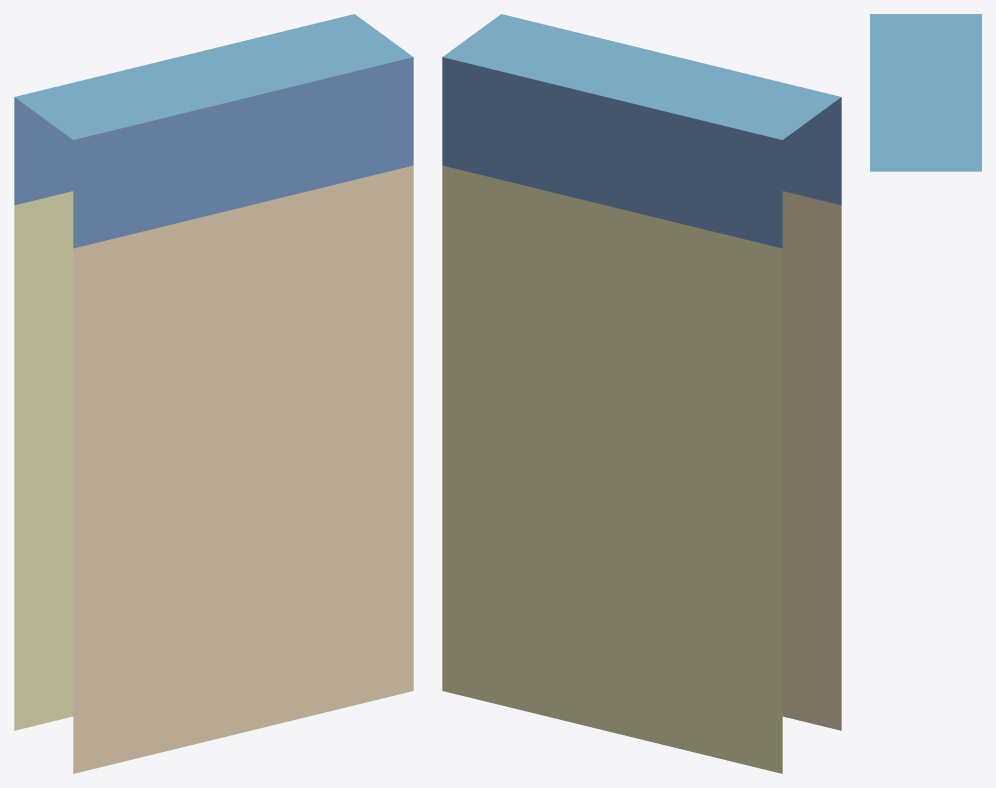
File: wall_inside_S.fbx
3 views of the same model, side by side, from view 1: azimuth 30°, elevation 25°; view 2: azimuth 150°, elevation 25°; view 3: azimuth 270°, elevation 25° (orthographic). The views are drawn at different scales.
Parts seen in each view (by area): view 1: wall_s2; view 2: wall_s2; view 3: wall_s2.
Part boxes in pixels (x1,y1,x2,y2): wall_s2: (14,14,413,773); wall_s2: (442,14,841,773); wall_s2: (870,14,981,171).
Size of the model in its own units: 100 by 178 by 30.
